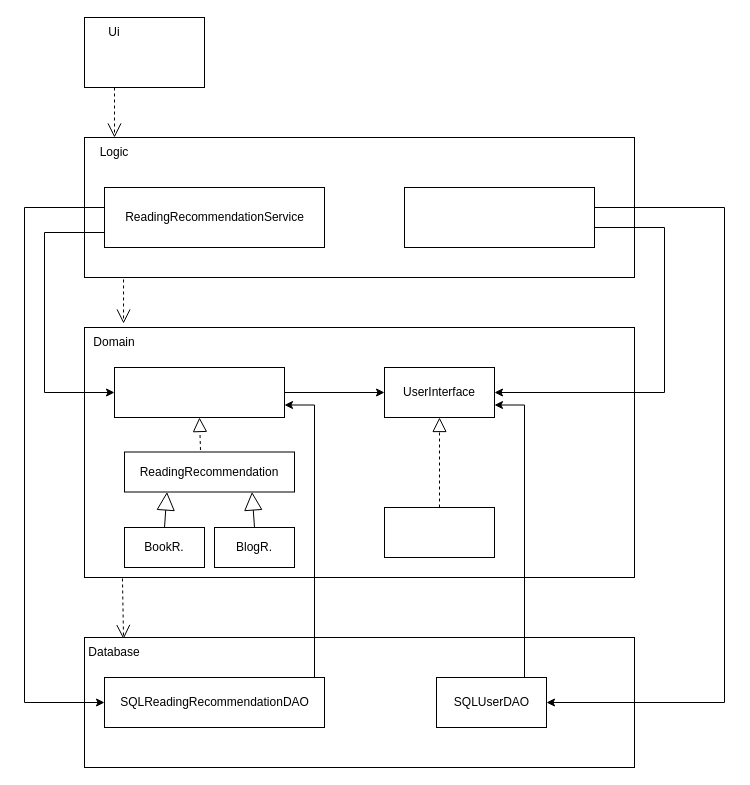
The diagram is 750 pixels wide and 785 high, and some of its shapes have lost their labels. Each missing label, with the centre of its shape:
"AuthenticationService" belongs at point (499, 217).
"ReadingRecommendation Interface" belongs at point (199, 392).
"User" belongs at point (439, 532).
